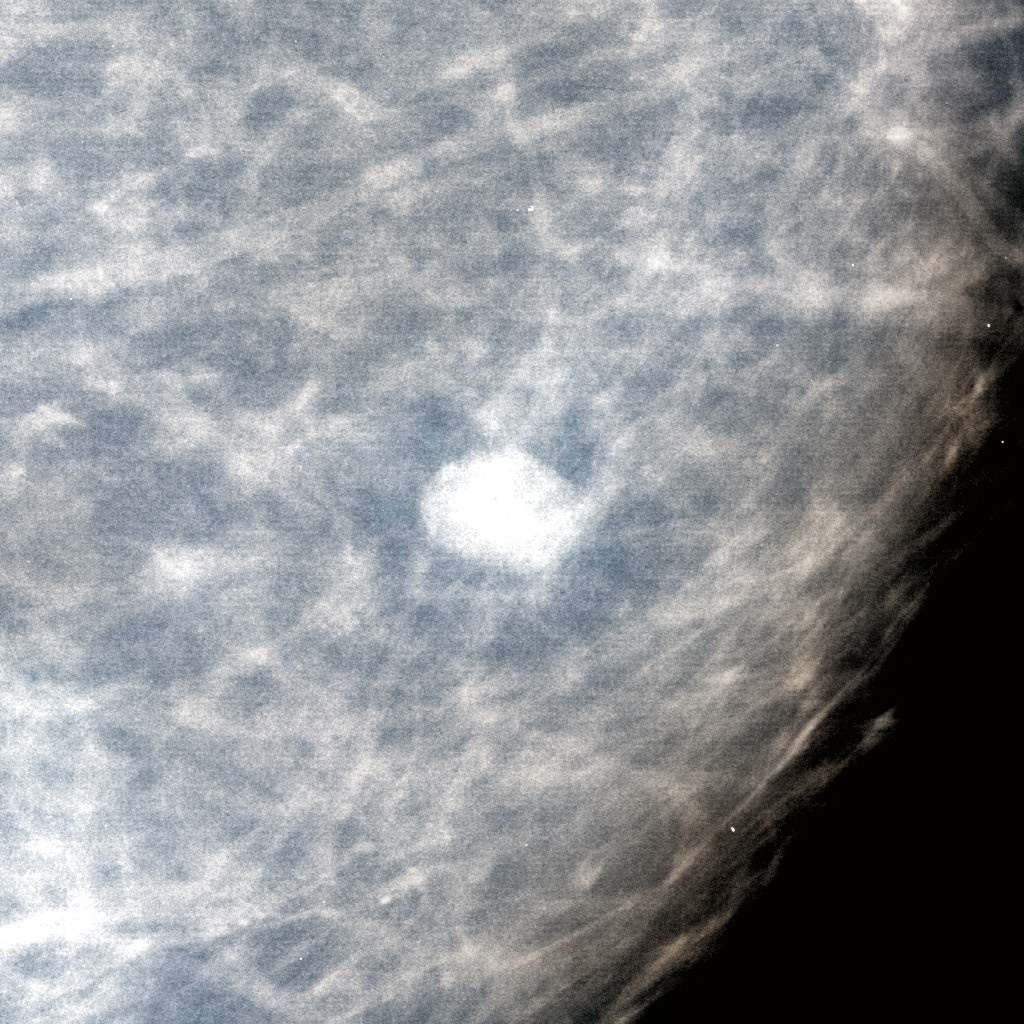tumor: (425, 437, 599, 587)
